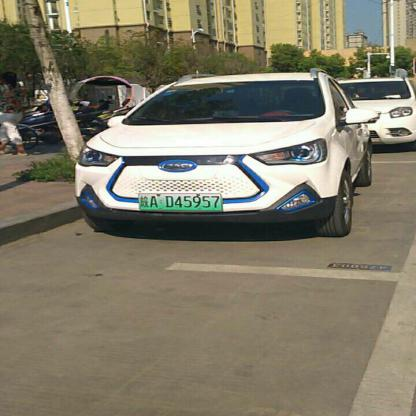lp: (139, 193, 223, 212)
